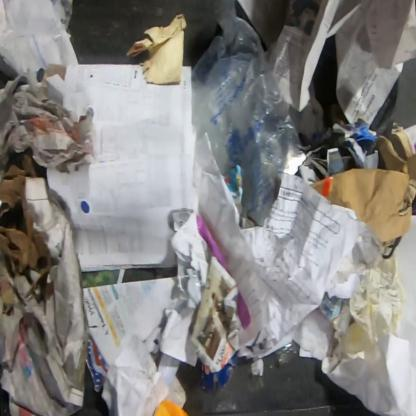cardboard: (307, 131, 415, 244), (0, 145, 55, 306), (331, 116, 379, 168), (200, 351, 240, 393)
soft_plastic: (191, 0, 300, 227)
